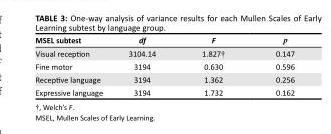table: (34, 34, 293, 96)
table column: (34, 34, 114, 96), (178, 34, 249, 96), (114, 34, 178, 96), (249, 34, 293, 96)
table column header: (34, 34, 293, 46)
table row: (34, 46, 293, 59), (34, 59, 293, 72), (34, 72, 293, 85), (34, 34, 293, 46), (34, 85, 293, 96)
